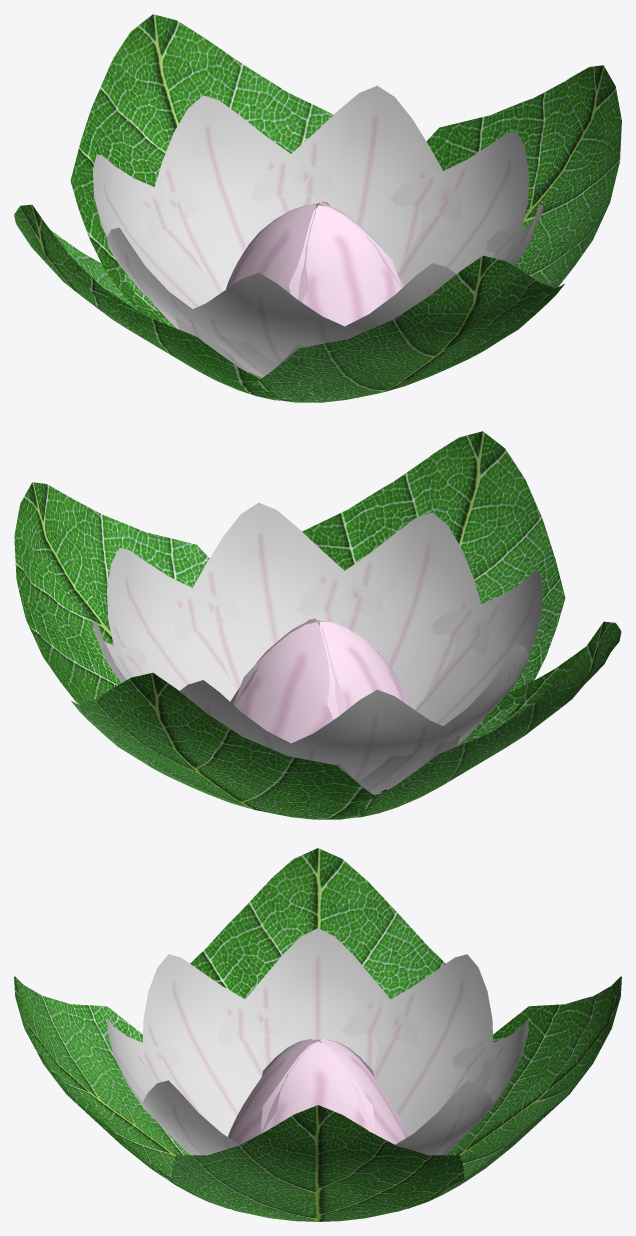
The model's file is Flower.fbx.
3 views of the same model, one above another, from view 1: azimuth 30°, elevation 25°; view 2: azimuth 150°, elevation 25°; view 3: azimuth 270°, elevation 25° (orthographic). The views are drawn at different scales.
Parts seen in each view (by area): view 1: Flower.013; view 2: Flower.013; view 3: Flower.013.
Part boxes in pixels (x1=…): Flower.013: x1=14, y1=14, x2=621, y2=402; Flower.013: x1=14, y1=431, x2=621, y2=819; Flower.013: x1=14, y1=848, x2=621, y2=1221.
Size of the model in its own units: 146 by 146 by 57.08.
